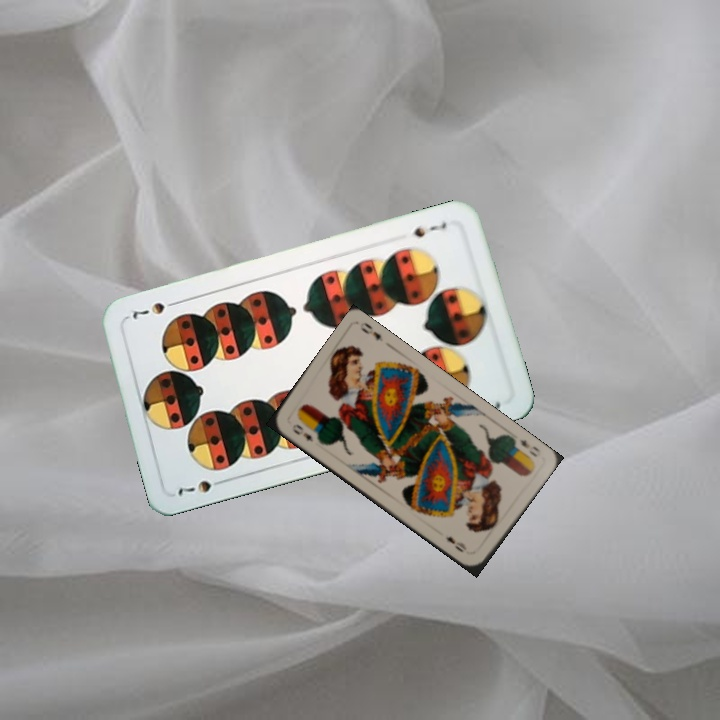EO: (515, 435, 543, 460), (288, 420, 316, 444)
S7: (173, 475, 230, 498), (409, 218, 449, 240)
